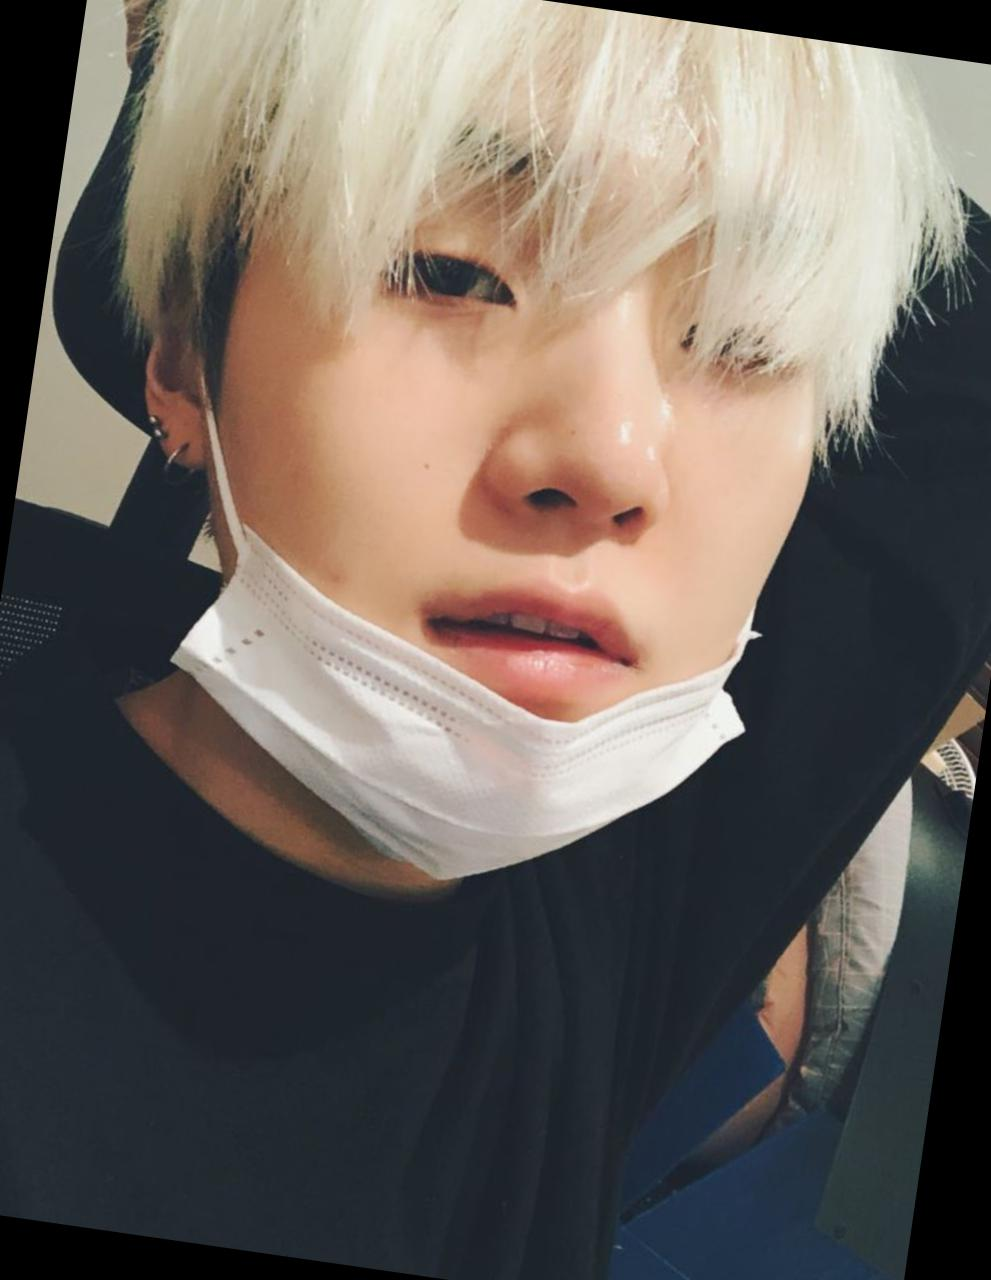mask_weared_incorrect: (210, 182, 823, 869)
